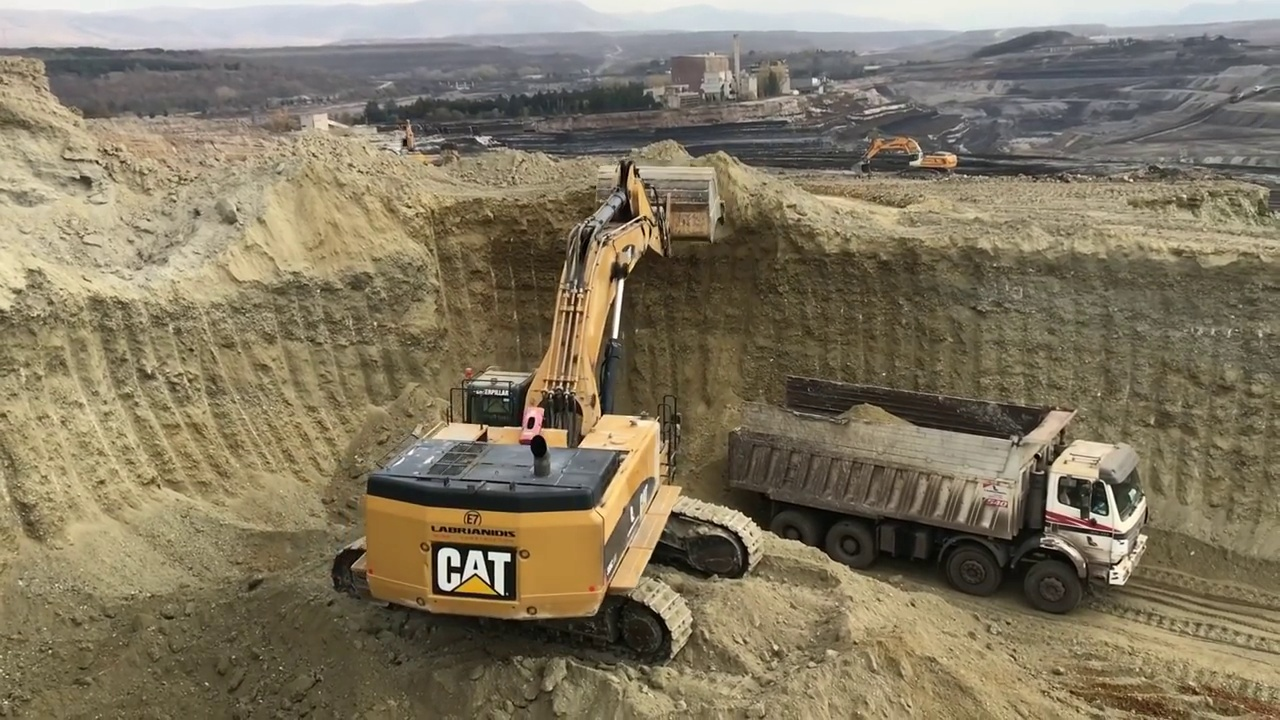excavator: (335, 154, 765, 668), (851, 136, 958, 176)
truck: (732, 372, 1151, 613)
